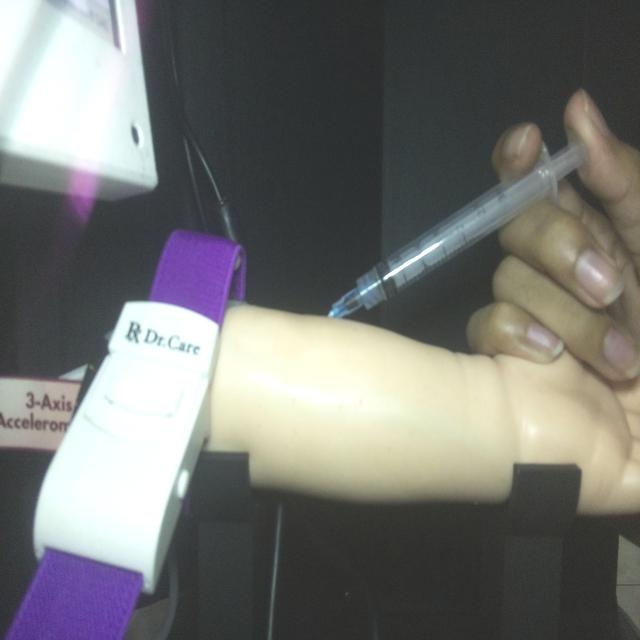25 degrees: (325, 134, 591, 321)
